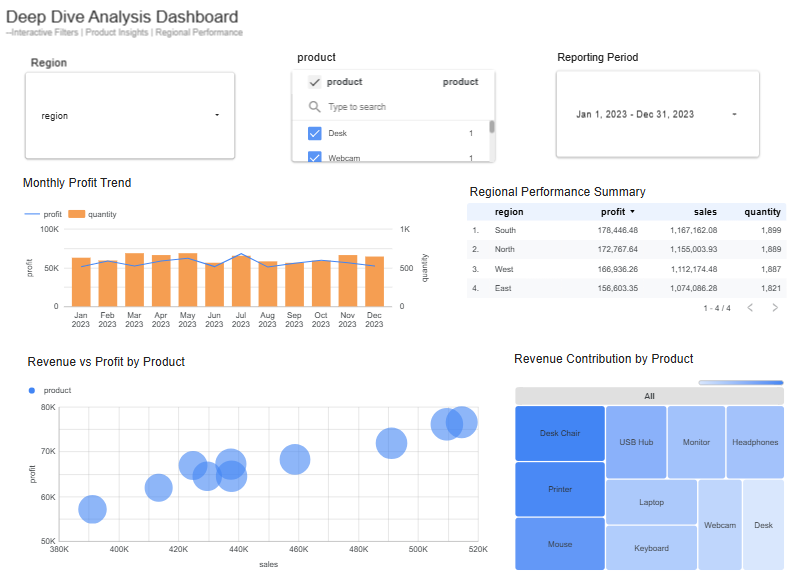

This screenshot's page, from the dashboard's own definition file:
{"tool":"powerbi","page":{"name":"第 2 页","canvas":[1280,720],"ordinal":1},"visuals":[{"type":"slicer","fields":{"Values":["retail_sales_dataset.region"]},"box":[0,42.1,192.7,278.5],"z":0},{"type":"slicer","fields":{"Values":["retail_sales_dataset.product"]},"box":[560.3,42.1,278.5,281.7],"z":1000},{"type":"slicer","fields":{"Values":["retail_sales_dataset.Month Name"]},"box":[247.7,42.1,278.5,278.5],"z":2000},{"type":"lineChart","title":"Monthly Profit Trend","fields":{"Y":["Sum(retail_sales_dataset.profit)"],"Category":["retail_sales_dataset.Month Name"]},"box":[0,328.7,526.2,341.7],"z":3000},{"type":"scatterChart","title":"Revenue vs Profit by Product","fields":{"X":["Sum(retail_sales_dataset.sales)"],"Y":["Sum(retail_sales_dataset.profit)"],"Series":["retail_sales_dataset.product"],"Category":["retail_sales_dataset.quantity"]},"box":[544.1,328.7,704.4,341.7],"z":4000},{"type":"tableEx","fields":{"Values":["retail_sales_dataset.region","Sum(retail_sales_dataset.sales)","Sum(retail_sales_dataset.profit)","Sum(retail_sales_dataset.quantity)"]},"box":[858.2,84.2,390.2,236.4],"z":5000},{"type":"textbox","box":[0,0,544.1,42.1],"z":5001}]}

Visuals, with their boxes on the page's 1280x720 design canvas (x1, y1, x2, y2). These are canvas units, not pixel positions in the 807x588 screenshot, which may show the page scaled, cropped or inside an application window:
slicer - retail_sales_dataset.region: locate(0, 42, 193, 321)
slicer - retail_sales_dataset.product: locate(560, 42, 839, 324)
slicer - retail_sales_dataset.Month Name: locate(248, 42, 526, 321)
"Monthly Profit Trend" lineChart: locate(0, 329, 526, 670)
"Revenue vs Profit by Product" scatterChart: locate(544, 329, 1248, 670)
tableEx - retail_sales_dataset.region x Sum(retail_sales_dataset.sales): locate(858, 84, 1248, 321)
textbox: locate(0, 0, 544, 42)
